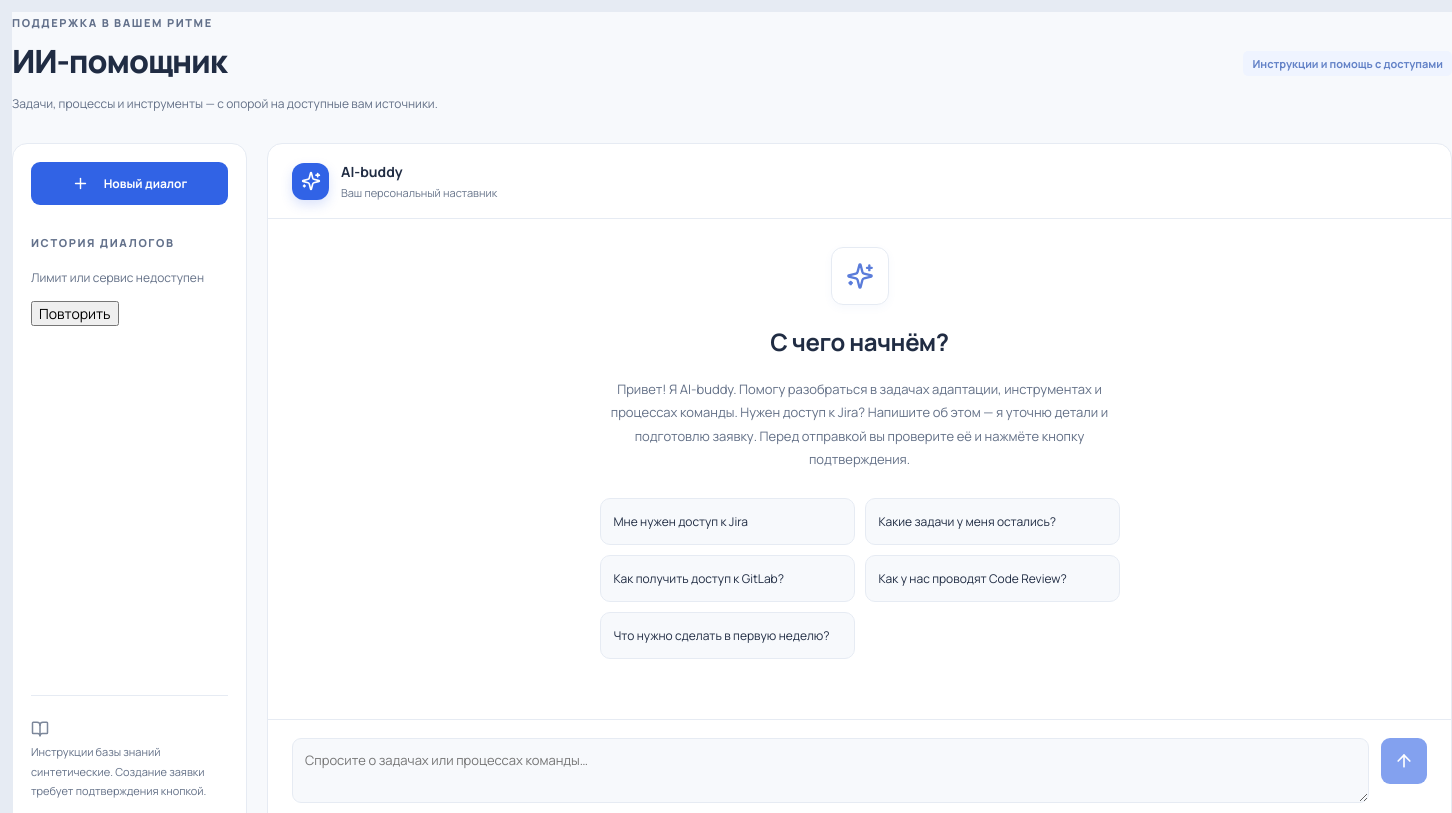
Test: conversation loading and errors can retry
(page scrolled)
Expected: the message "Лимит или сервис недоступен Повторить" is shown, [31,267,228,326]
What coordinates should you click on to do the following:
click the button "Повторить"
I would click on:
 (75, 313)
Its box is [31,301,118,326].
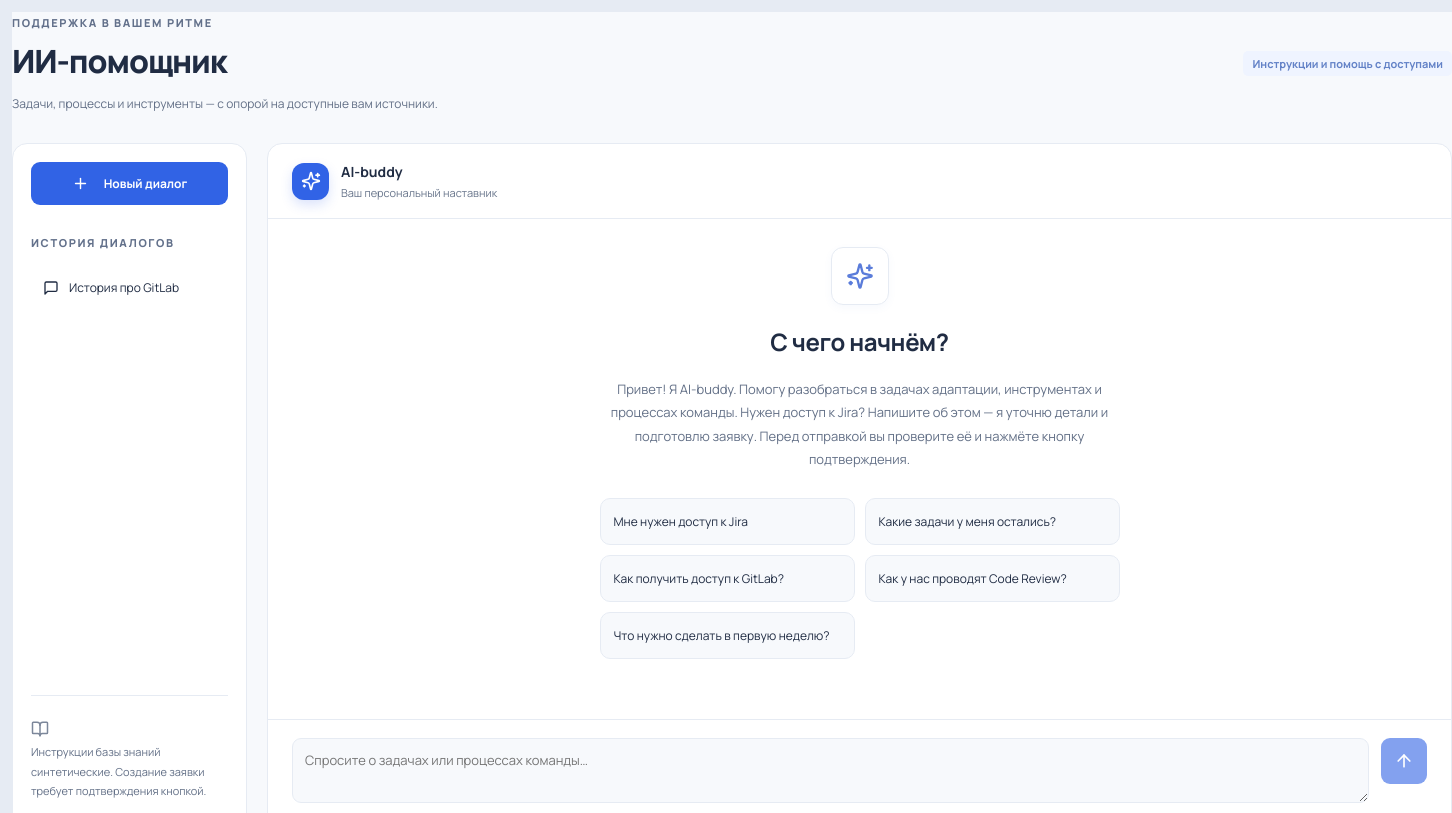
Now the text "История про GitLab" is shown, box [69,279,179,296]
